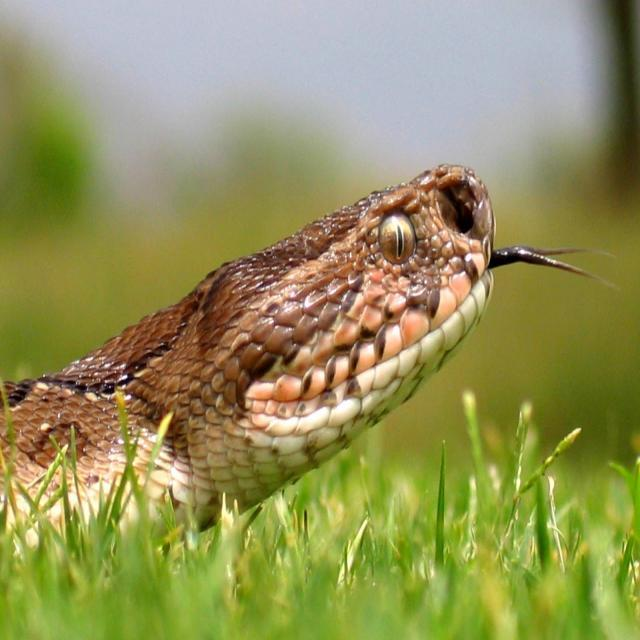Snake: (0, 161, 617, 558)
